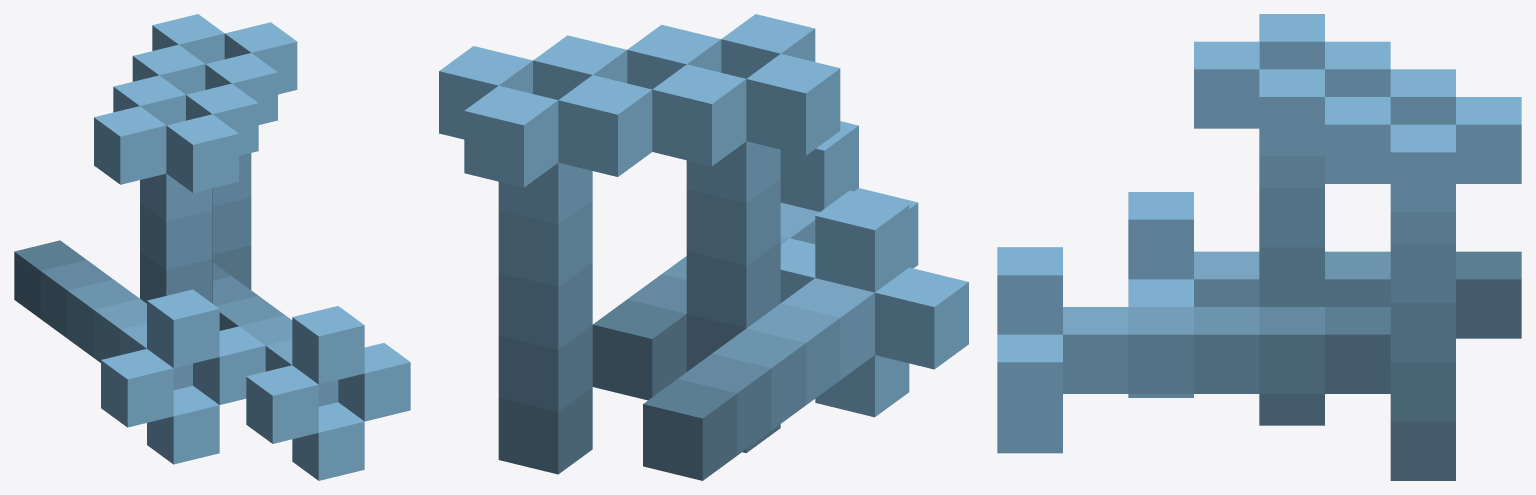
File: big_floors_vial_blue_2.obj
The picture shows the model from 3 angles, left to right: view 1: azimuth 30°, elevation 25°; view 2: azimuth 150°, elevation 25°; view 3: azimuth 270°, elevation 25°; orthographic projection. The views are drawn at different scales.
Size of the model in its own units: 6 by 6 by 8.
Materials: 1 (1 with a texture image).
